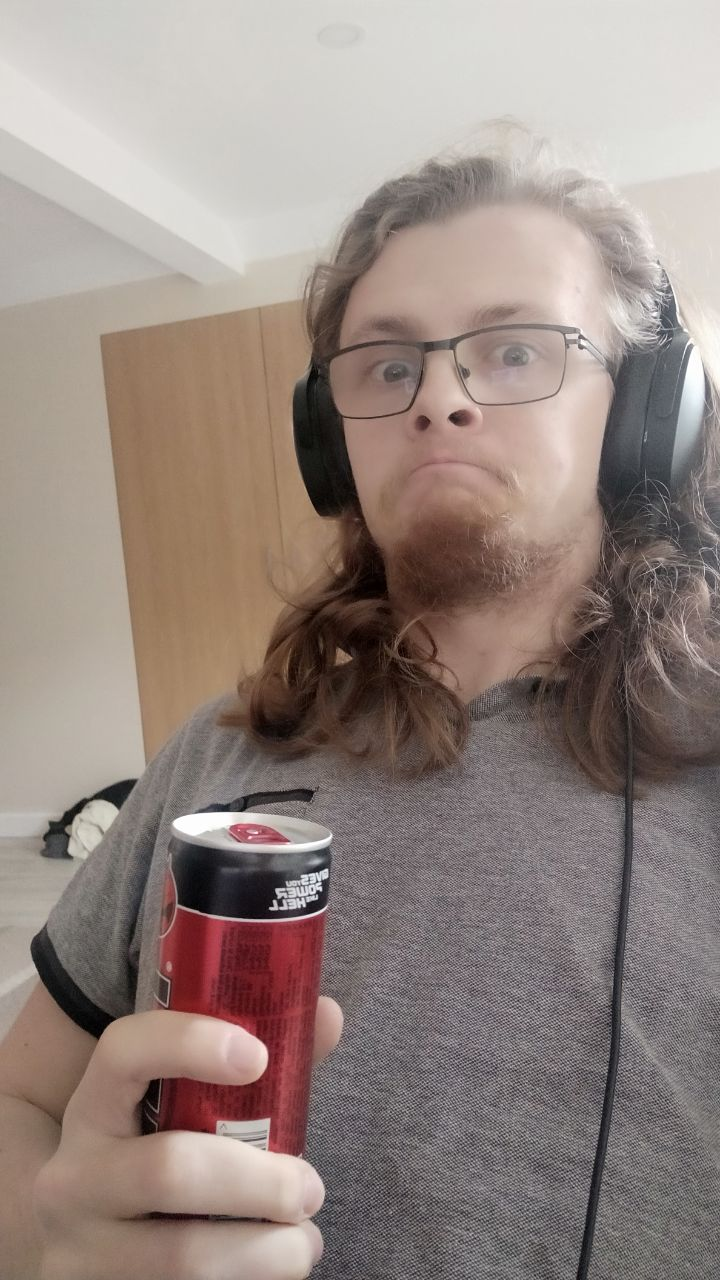Can: (151, 808, 339, 1176)
